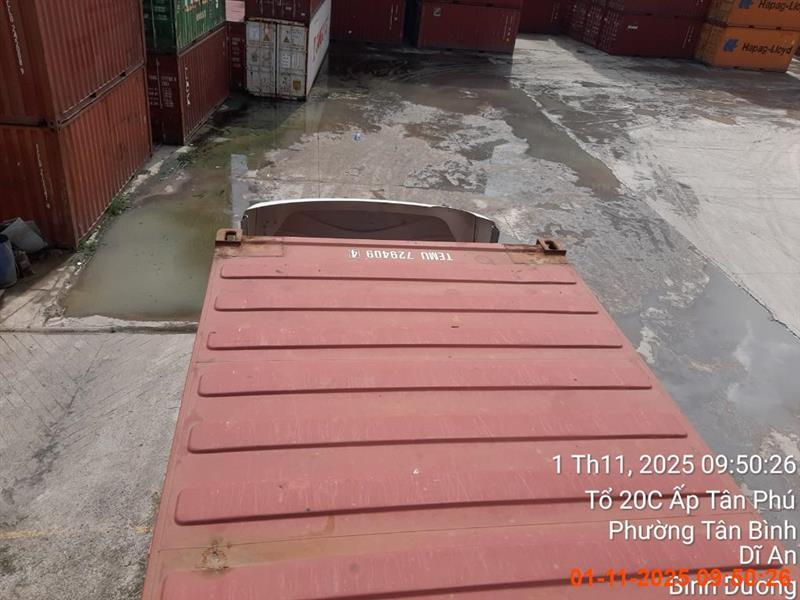hole: (140, 196, 797, 598)
